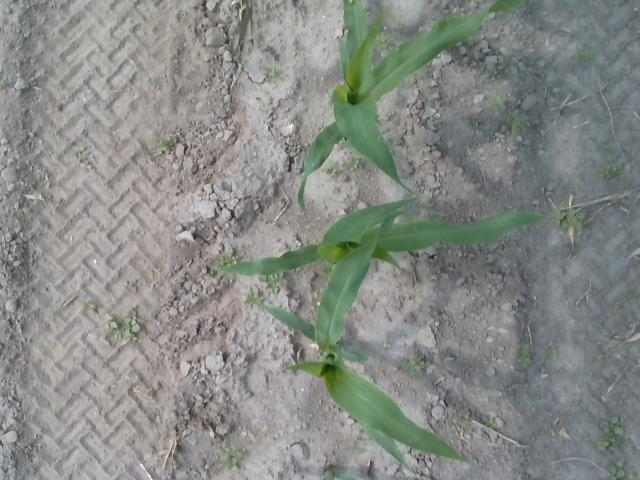Maize: (266, 210, 464, 474), (298, 0, 522, 214), (198, 198, 567, 275), (320, 465, 362, 480)
Weeds: (123, 310, 146, 336), (259, 274, 286, 294), (564, 208, 586, 228), (600, 162, 622, 178), (518, 344, 534, 366), (604, 417, 624, 434), (406, 356, 426, 372), (596, 437, 616, 453), (610, 460, 626, 480), (244, 290, 264, 306), (346, 437, 364, 454), (547, 207, 566, 223), (102, 314, 120, 330), (265, 68, 284, 82), (376, 34, 393, 48), (154, 140, 168, 156), (493, 94, 507, 109), (320, 161, 336, 174), (220, 456, 238, 467), (579, 48, 595, 60), (347, 160, 363, 172), (510, 118, 524, 131), (122, 280, 136, 292), (220, 255, 238, 264), (72, 146, 86, 156), (626, 288, 637, 299), (80, 157, 90, 168), (536, 432, 548, 441), (86, 303, 98, 312), (485, 418, 496, 427), (218, 446, 230, 454), (0, 74, 8, 86), (549, 350, 559, 359), (609, 304, 618, 312)
